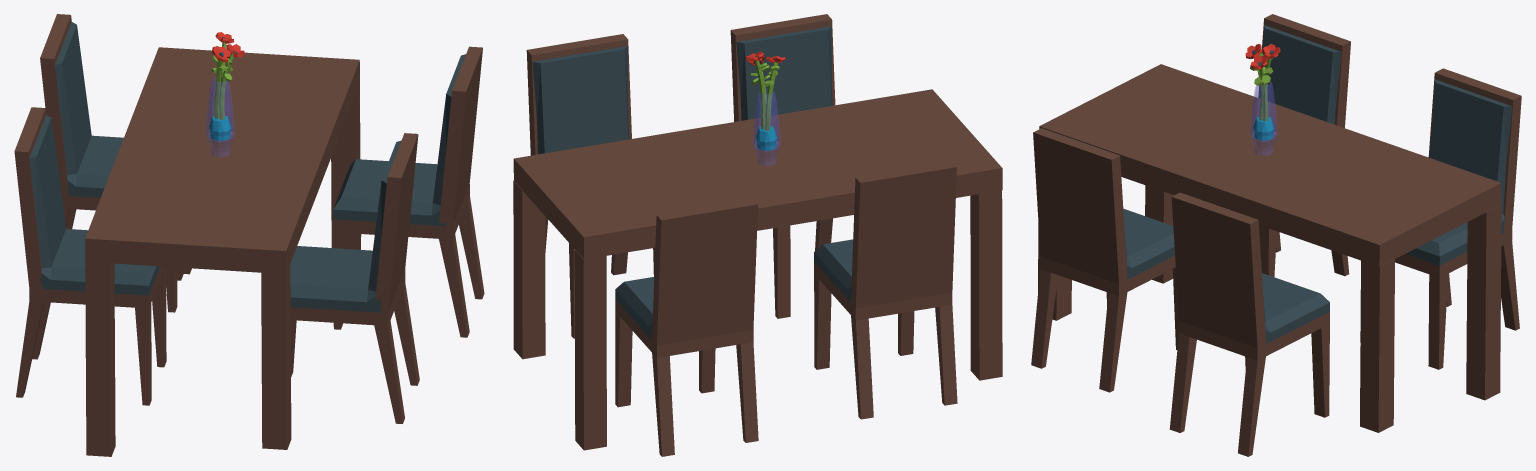
The picture shows the model from 3 angles, left to right: view 1: azimuth 30°, elevation 25°; view 2: azimuth 150°, elevation 25°; view 3: azimuth 270°, elevation 25°; orthographic projection. The views are drawn at different scales.
Visible parts, largest first — view 1: node_MeshObject-1002277888-PolyPaper22, node_MeshObject-139785216-PolyPaper17, node_MeshObject432293888-PolyGlass24; view 2: node_MeshObject-1002277888-PolyPaper22, node_MeshObject-139785216-PolyPaper17, node_MeshObject432293888-PolyGlass24; view 3: node_MeshObject-1002277888-PolyPaper22, node_MeshObject-139785216-PolyPaper17, node_MeshObject432293888-PolyGlass24.
Boxes of the visible parts, x1,y1,x2,y2 form: node_MeshObject-1002277888-PolyPaper22: [14, 14, 484, 456]; node_MeshObject-139785216-PolyPaper17: [85, 32, 359, 449]; node_MeshObject432293888-PolyGlass24: [206, 76, 234, 156]; node_MeshObject-1002277888-PolyPaper22: [513, 14, 1002, 456]; node_MeshObject-139785216-PolyPaper17: [513, 51, 1002, 258]; node_MeshObject432293888-PolyGlass24: [753, 88, 780, 165]; node_MeshObject-1002277888-PolyPaper22: [1031, 14, 1521, 456]; node_MeshObject-139785216-PolyPaper17: [1038, 44, 1501, 320]; node_MeshObject432293888-PolyGlass24: [1250, 81, 1277, 155].
Size of the model in its own units: 0.0608 by 0.0429 by 0.0596.
